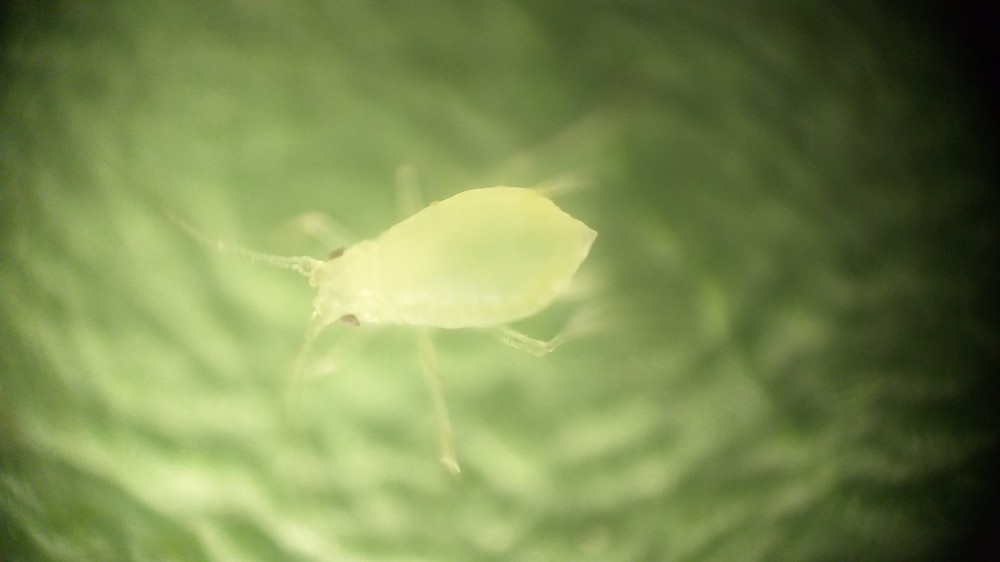Pulgon: (162, 120, 675, 480)
